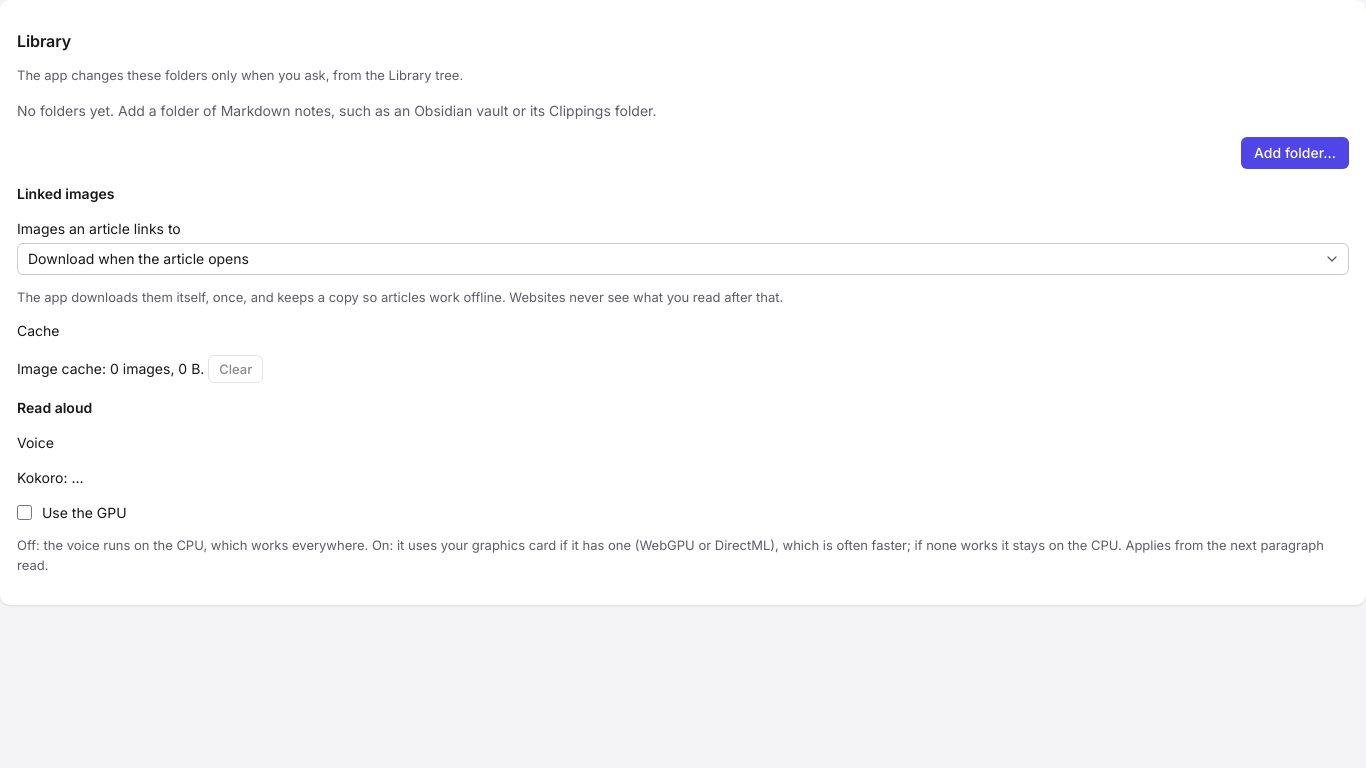
Scenario: LibrarySection › shows a refusal from main
The image size is (1366, 768).
Expected: the text with test id "library-empty" is shown, [17, 102, 656, 118]
Click the button "Add folder…": (1295, 152) [1241, 136, 1349, 168]
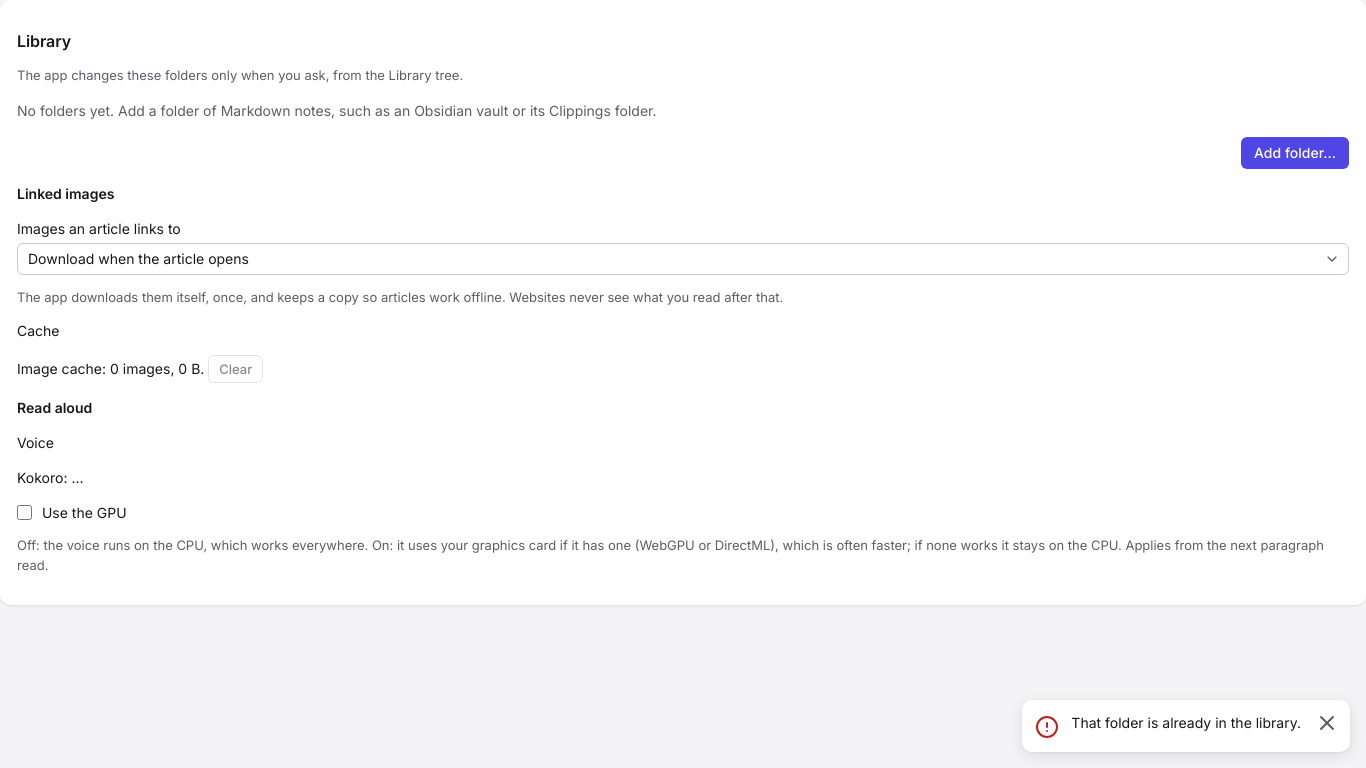
Expected: the text "That folder is already in the library." is shown, [1071, 713, 1301, 733]
